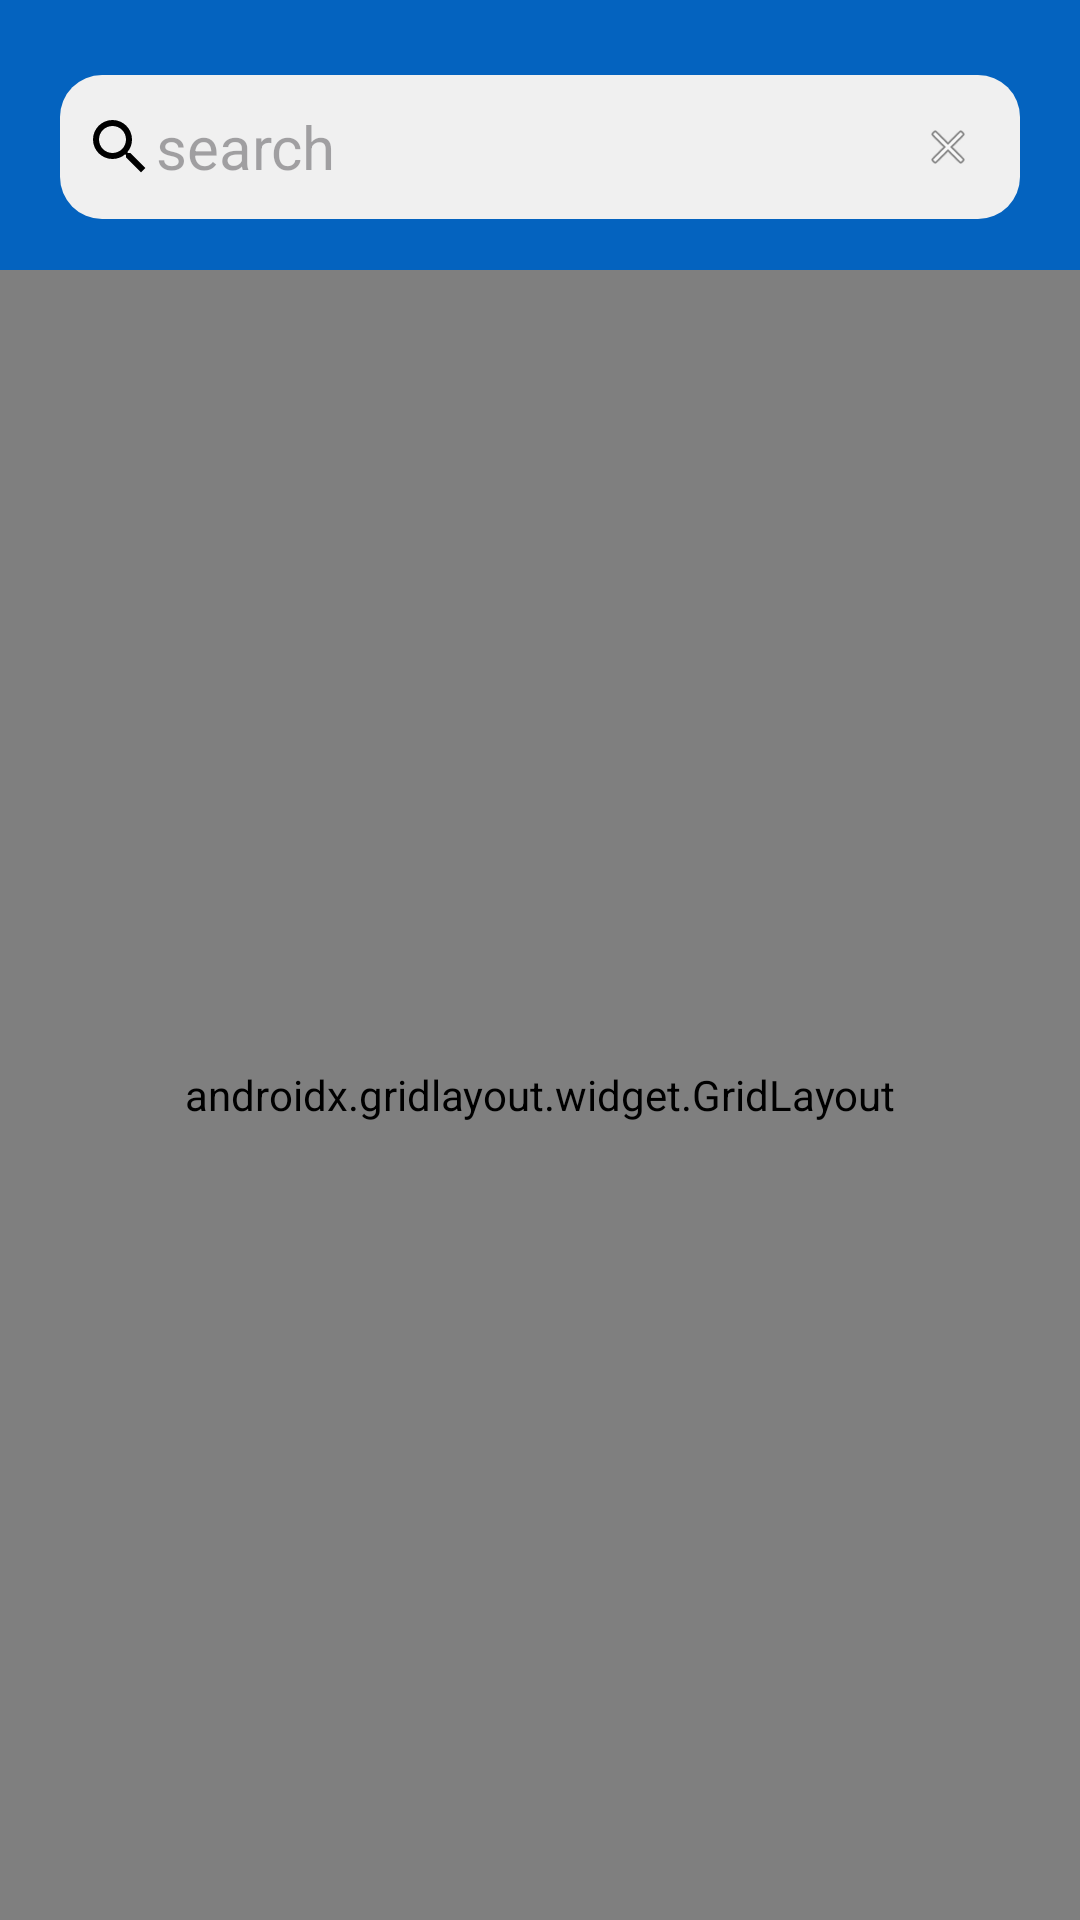

Where icons sit on this 1080px x 1920px app screen, as (x1, y1, x2, y2):
Clear input: (876, 75, 1020, 219)
